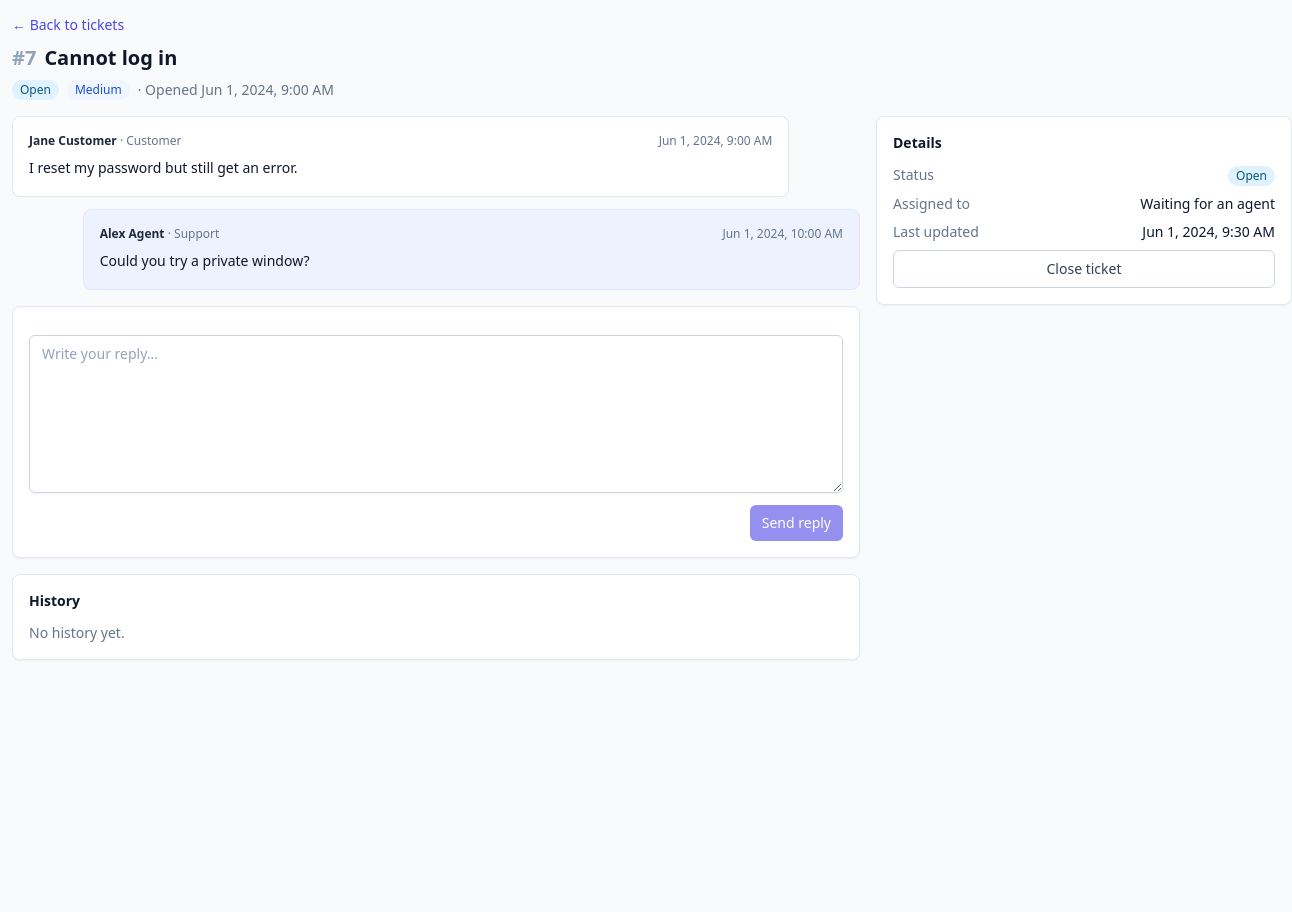
Test: TicketDetailPage for customers › has no internal note option and can close the ticket
expect the text "Could you try a private window?" is shown: met, box [100,251,310,270]
Click the button "Close ticket".
click(1084, 269)  # box [893,250,1275,288]
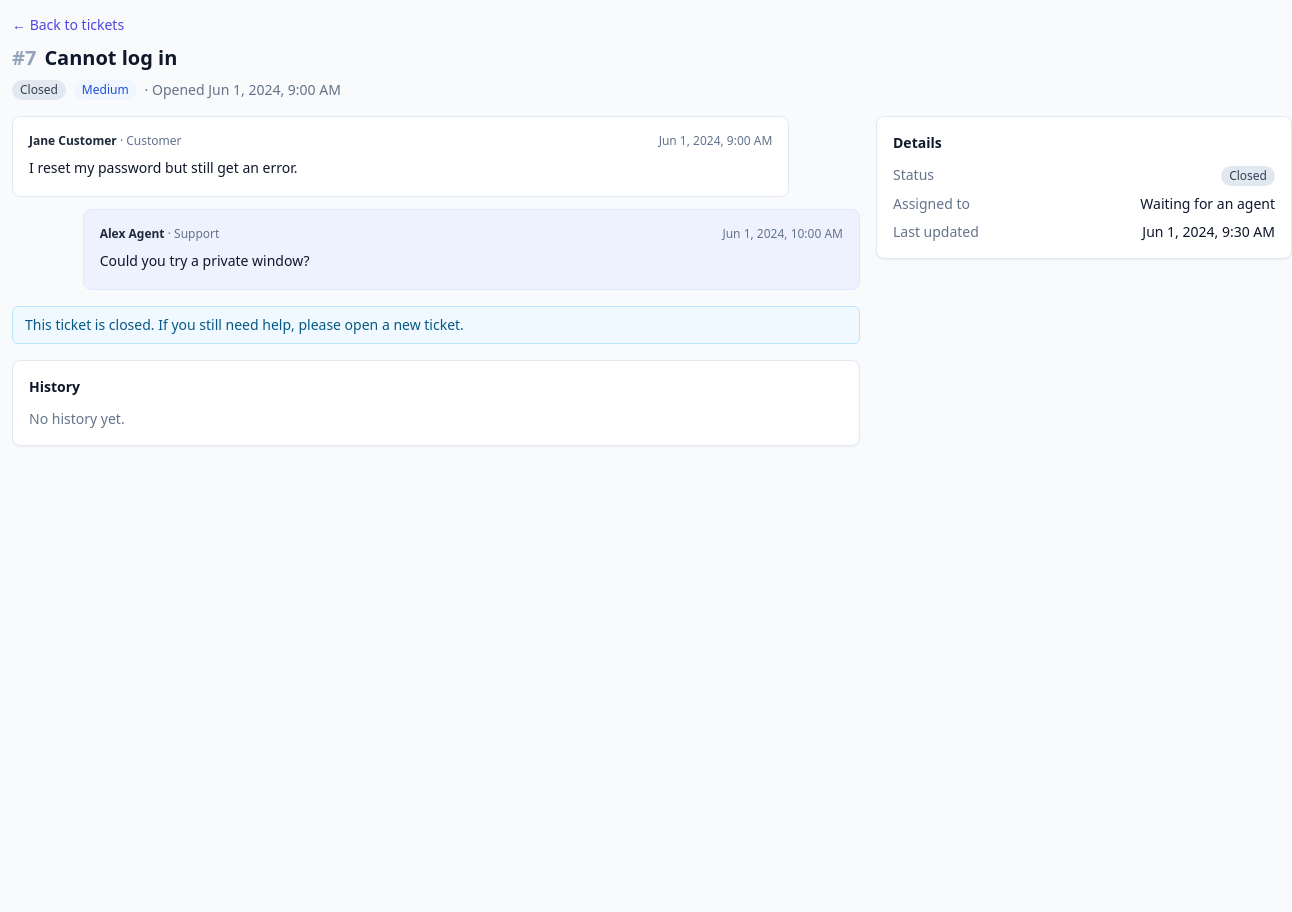
expect the text "This ticket is closed. If you still need help, please open a new ticket." is shown: met, box [12,306,860,344]
